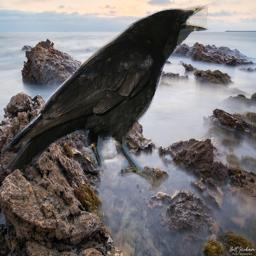Crow: (1, 3, 212, 184)
